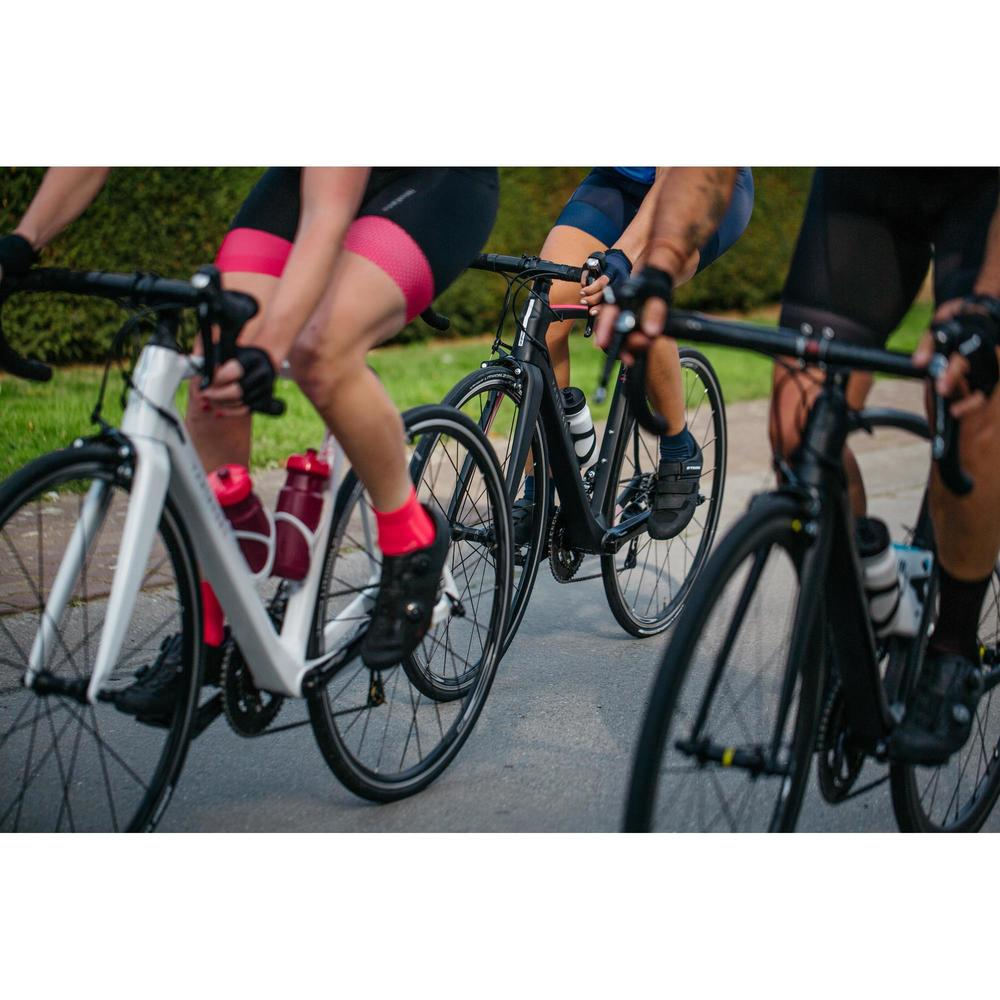RoadBike: (3, 258, 501, 817), (635, 292, 1000, 839), (374, 252, 723, 759)
